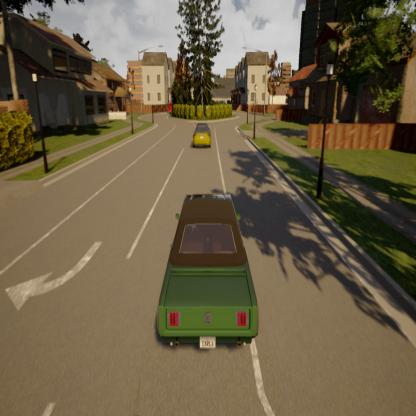Cars: (154, 186, 265, 363), (190, 118, 215, 154)
